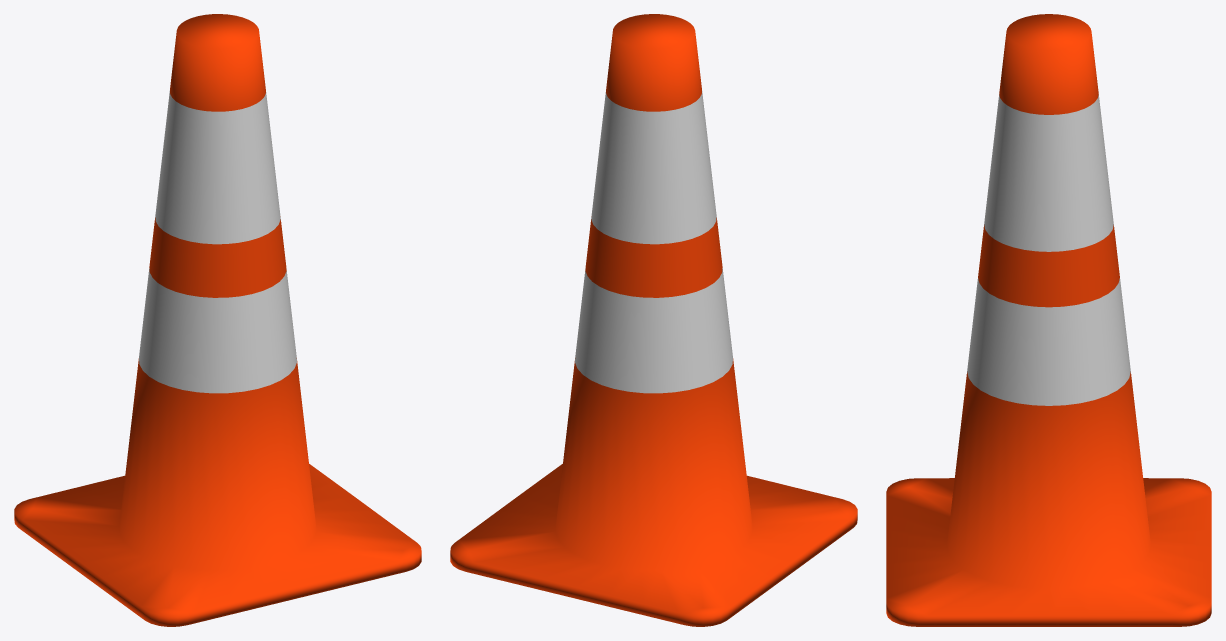
3 views of the same model, side by side, from view 1: azimuth 30°, elevation 25°; view 2: azimuth 150°, elevation 25°; view 3: azimuth 270°, elevation 25° (orthographic). The views are drawn at different scales.
Parts seen in each view (by area): view 1: tmp_export_Cylinder; view 2: tmp_export_Cylinder; view 3: tmp_export_Cylinder.
Boxes of the visible parts, x1=… form: tmp_export_Cylinder: x1=14, y1=14, x2=421, y2=626; tmp_export_Cylinder: x1=450, y1=14, x2=857, y2=626; tmp_export_Cylinder: x1=886, y1=14, x2=1211, y2=626.
Bounding box in the file's own units: 0.42 × 0.42 × 0.75.
